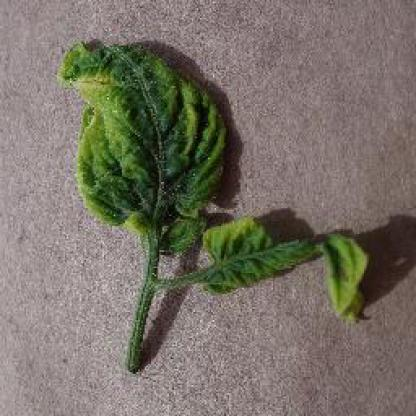bad leaf: (64, 35, 237, 243), (180, 215, 372, 314)
